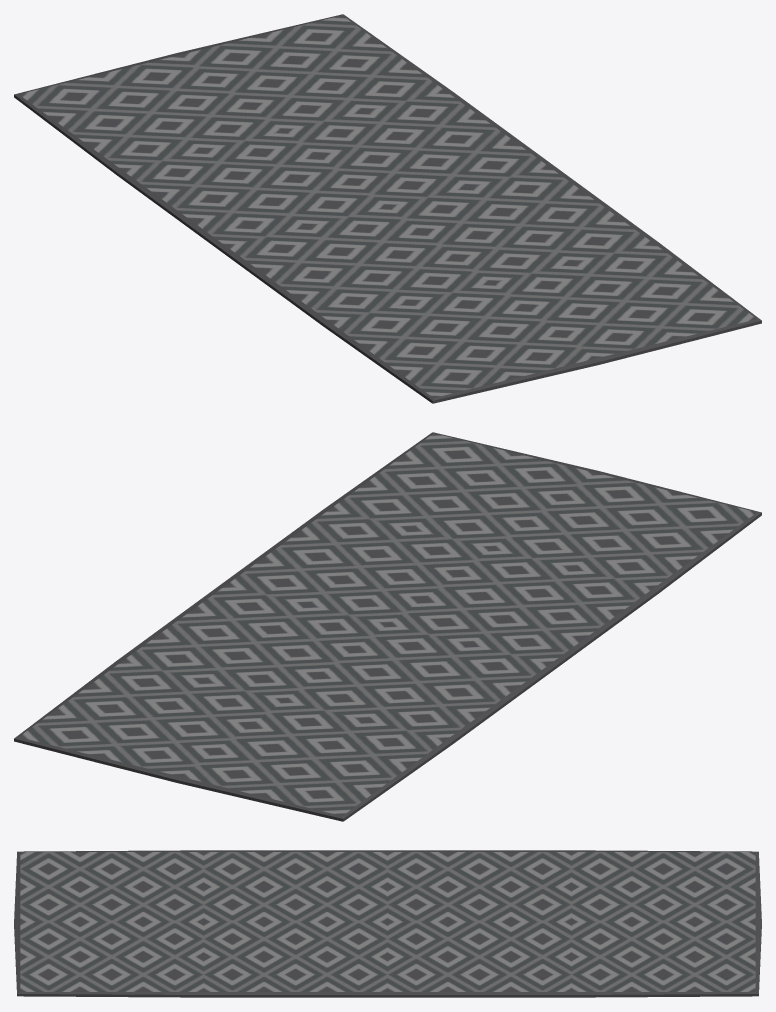
File: SM_Prop_Rug_01.obj
3 renders of one model, top to bottom at view 1: azimuth 30°, elevation 25°; view 2: azimuth 150°, elevation 25°; view 3: azimuth 270°, elevation 25°, orthographic. The views are drawn at different scales.
Parts seen in each view (by area): view 1: SM_Prop_Rug_01_0; view 2: SM_Prop_Rug_01_0; view 3: SM_Prop_Rug_01_0.
Part boxes in pixels (x1,y1,x2,y2): SM_Prop_Rug_01_0: (14, 14, 761, 403); SM_Prop_Rug_01_0: (14, 432, 761, 821); SM_Prop_Rug_01_0: (14, 850, 761, 997).
Size of the model in its own units: 2.11 by 0.0225 by 4.61.
Materials: 1 (1 with a texture image).
